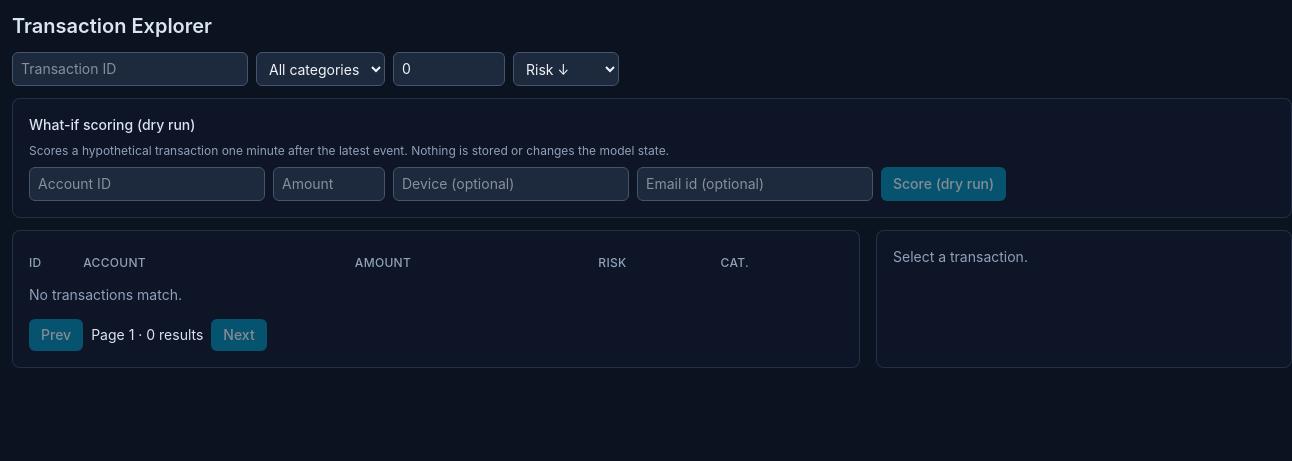
Test: What-if scoring › sends a dry-run score request after the latest event and shows evidence
This screenshot has width=1292, height=461.
In the field labelled "Account": (147, 184) x1=29 y1=167 x2=265 y2=201, type "ring0_0"
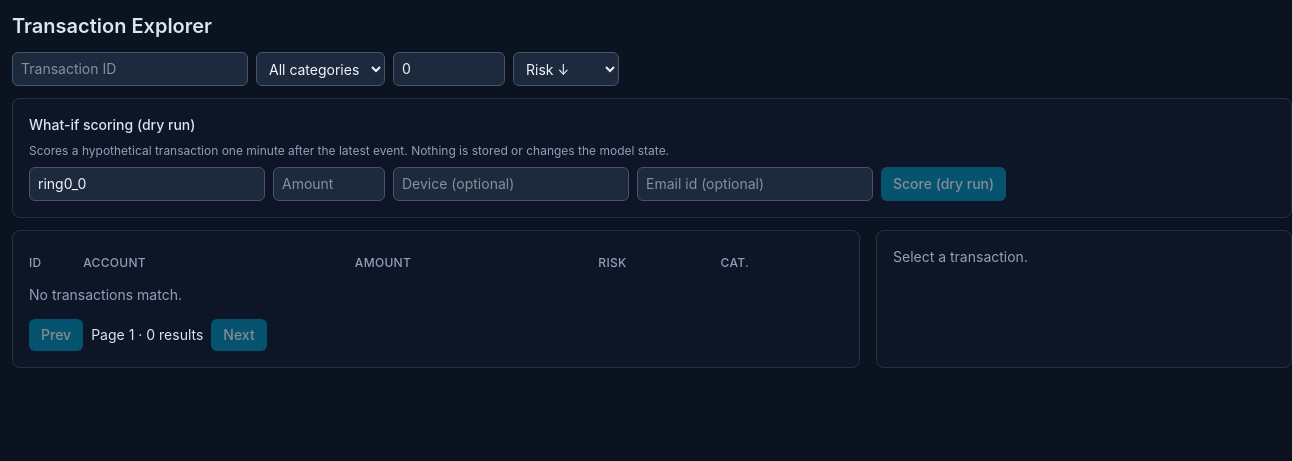
In the number field labelled "Amount": (329, 184) x1=273 y1=167 x2=385 y2=201, type "900"
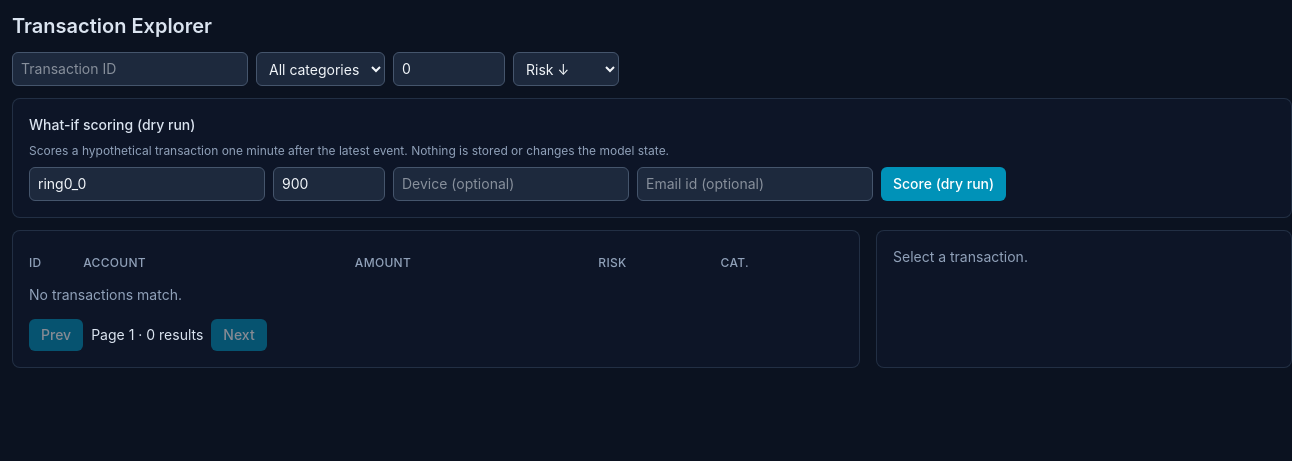
In the field labelled "Device": (511, 184) x1=393 y1=167 x2=629 y2=201, type "ring_dev_0"
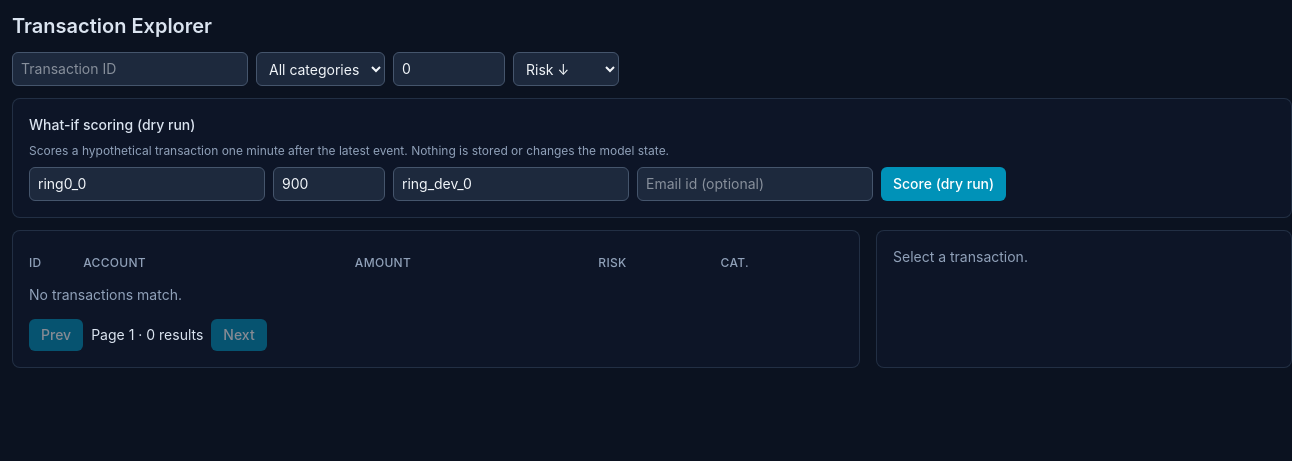
Click the button "Score (dry run)": (944, 184) x1=881 y1=167 x2=1006 y2=201
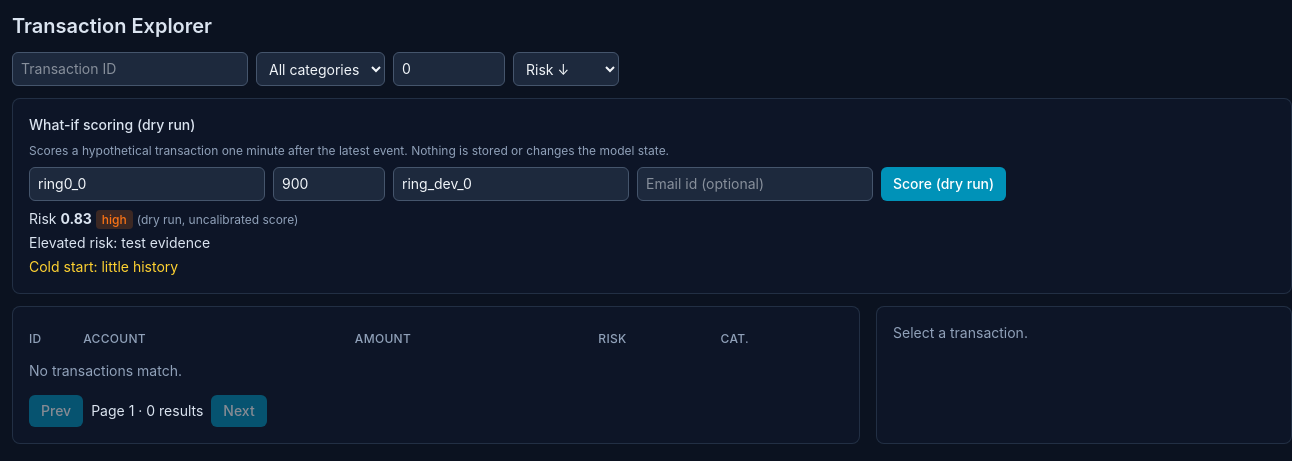
Expected: the text "Elevated risk: test evidence" is shown, x1=29 y1=234 x2=210 y2=251
